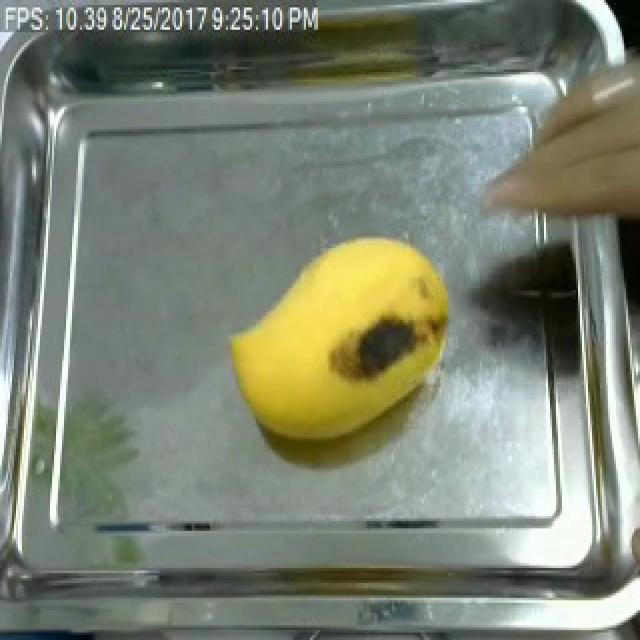fruit: (216, 218, 458, 456), (470, 15, 640, 243)
